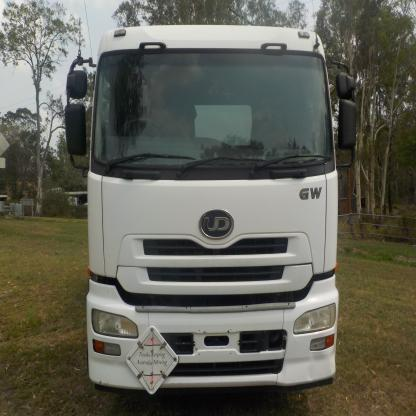dump_truck: (61, 12, 346, 396)
